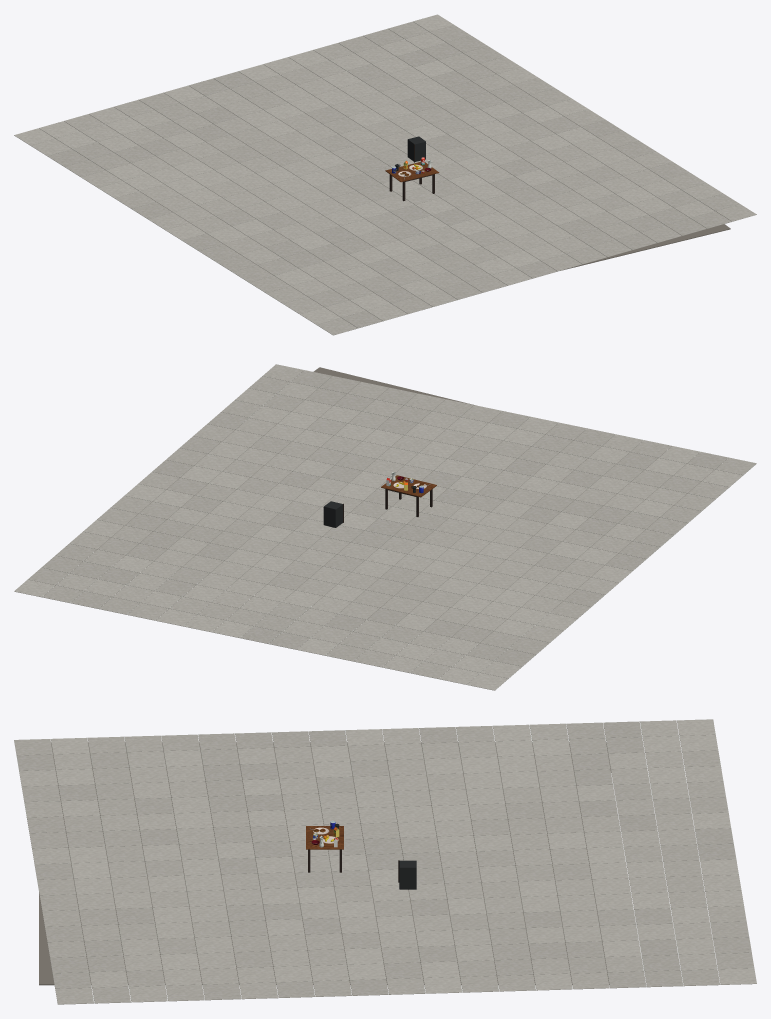
Rendered from codex.glb.
The picture shows the model from 3 angles, top to bottom: view 1: azimuth 30°, elevation 25°; view 2: azimuth 150°, elevation 25°; view 3: azimuth 270°, elevation 25°; orthographic projection. The views are drawn at different scales.
Visible parts, largest first — view 1: Grout foundation; view 2: Grout foundation; view 3: Grout foundation, Stone tile 8 -3, Stone tile 8 -4, Stone tile 8 -5, Stone tile 8 6, Stone tile 8 7, Stone tile 8 8, Stone tile 8 -6, Stone tile 8 5, Stone tile 8 1, Stone tile 8 2, Stone tile 8 3 (+309 smaller).
Boxes of the visible parts, bbox=[...] form: Grout foundation: bbox=[181, 91, 730, 296]; Grout foundation: bbox=[96, 367, 717, 642]; Grout foundation: bbox=[39, 742, 611, 985]; Stone tile 8 -3: bbox=[239, 982, 278, 999]; Stone tile 8 -4: bbox=[202, 983, 241, 1000]; Stone tile 8 -5: bbox=[165, 984, 204, 1001]; Stone tile 8 6: bbox=[570, 972, 609, 989]; Stone tile 8 7: bbox=[607, 971, 646, 988]; Stone tile 8 8: bbox=[644, 970, 683, 987]; Stone tile 8 -6: bbox=[129, 985, 167, 1002]; Stone tile 8 5: bbox=[534, 973, 572, 990]; Stone tile 8 1: bbox=[386, 978, 425, 994]; Stone tile 8 2: bbox=[423, 977, 462, 993]; Stone tile 8 3: bbox=[460, 976, 499, 992].
Size of the model in its own units: 47.14 by 2.85 by 51.93.
Materials: 379 (343 with a texture image).
